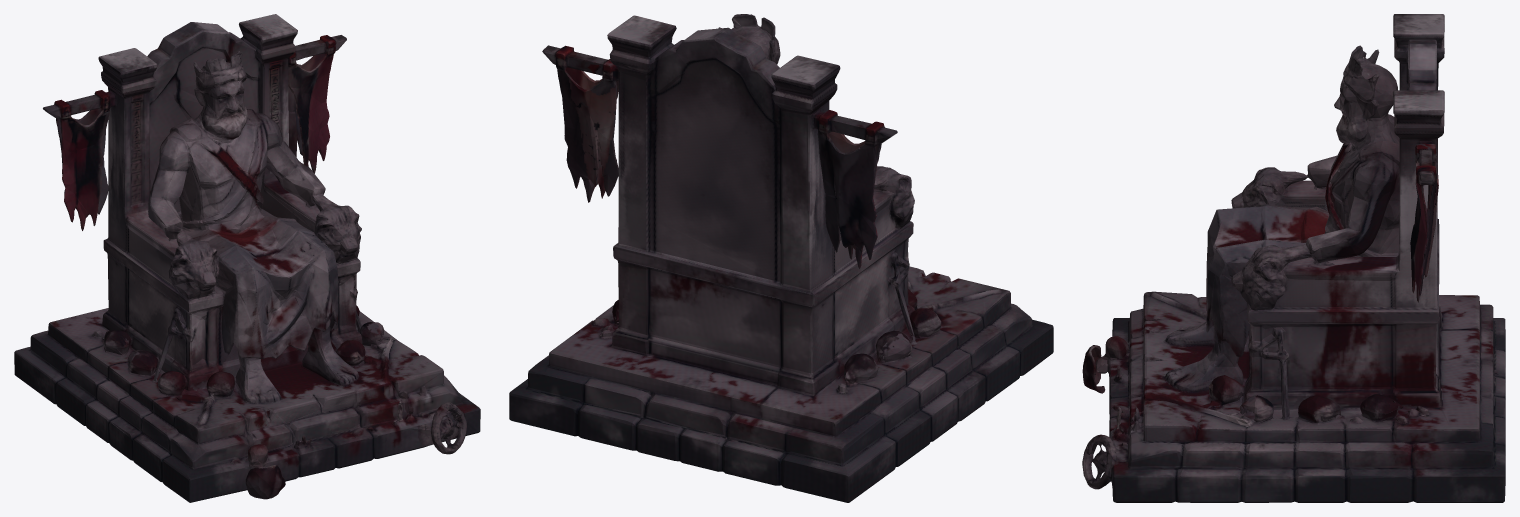
File: statusMagistrale_LOD1.glb
3 renders of one model, left to right at view 1: azimuth 30°, elevation 25°; view 2: azimuth 150°, elevation 25°; view 3: azimuth 270°, elevation 25°, orthographic. The views are drawn at different scales.
Size of the model in its own units: 0.9102 by 0.9999 by 0.9981.
Materials: 1 (1 with a texture image).
